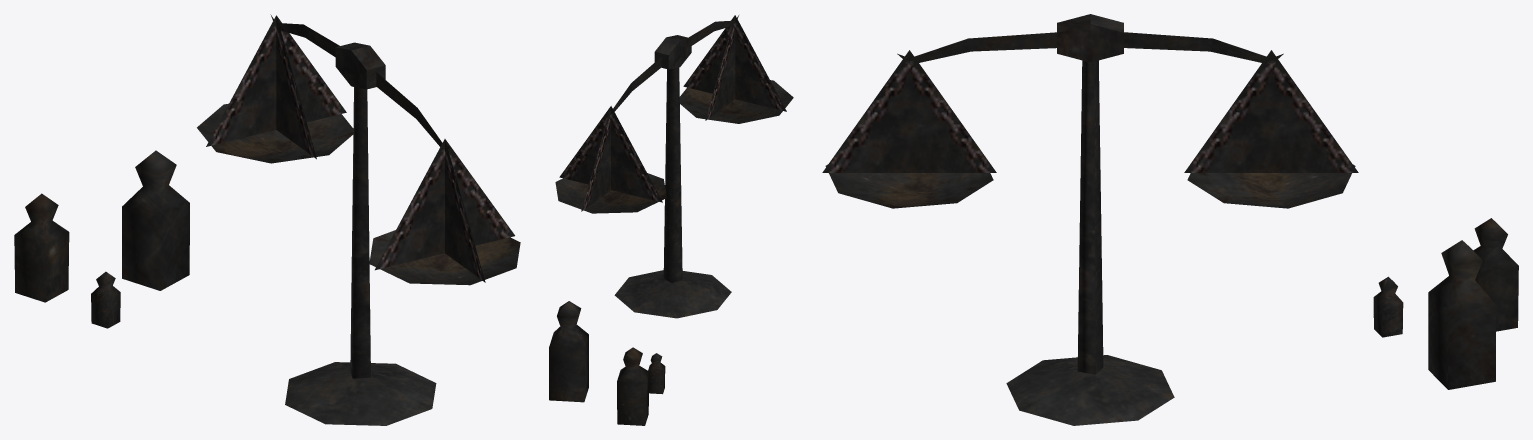
File: Stall2_add_LOD1.fbx
The picture shows the model from 3 angles, left to right: view 1: azimuth 30°, elevation 25°; view 2: azimuth 150°, elevation 25°; view 3: azimuth 270°, elevation 25°; orthographic projection. The views are drawn at different scales.
Visible parts, largest first — view 1: polySurface212; view 2: polySurface212; view 3: polySurface212.
Part boxes in pixels (bbox=[...]): polySurface212: bbox=[14, 14, 520, 425]; polySurface212: bbox=[549, 15, 793, 425]; polySurface212: bbox=[822, 14, 1518, 425].
Bounding box in the file's own units: 2.24 × 3.3 × 5.59.
